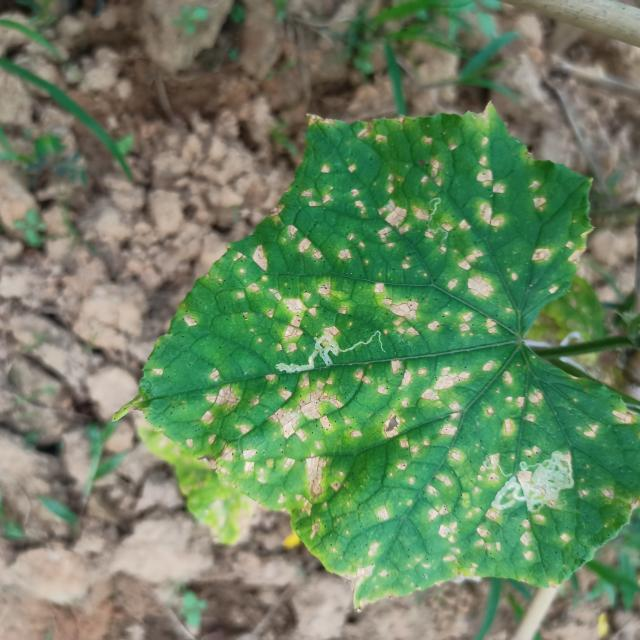disease_cucumber: (191, 134, 628, 578)
